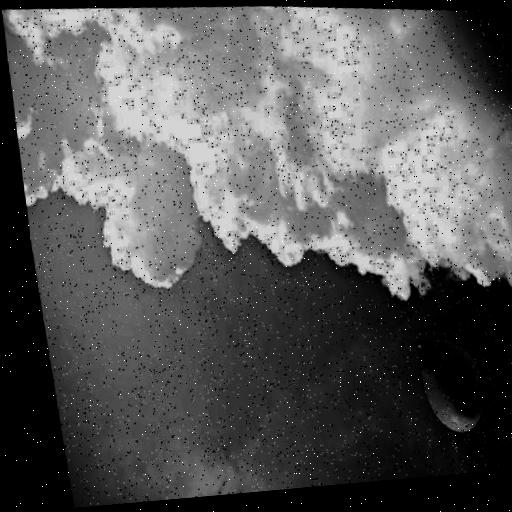balloon: (405, 311, 486, 436)
